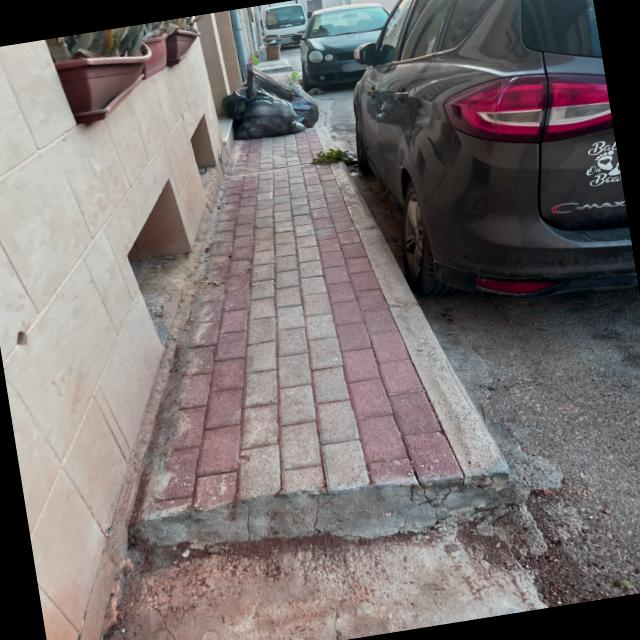black_bag: (228, 92, 307, 143), (216, 64, 290, 104), (289, 82, 324, 132)
other_waste: (254, 40, 284, 64)
